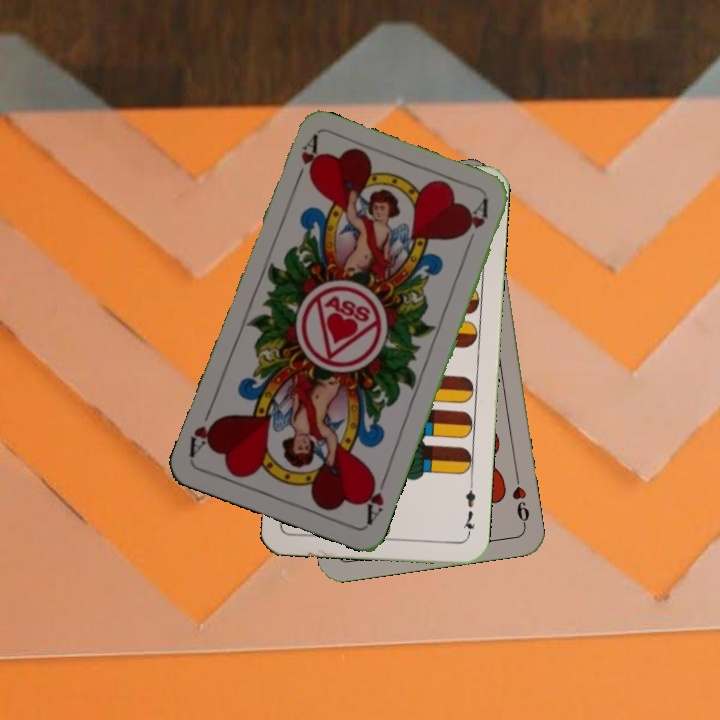E7: (459, 480, 478, 539)
H9: (508, 470, 532, 529)
HA: (359, 469, 390, 527), (290, 132, 321, 189)
